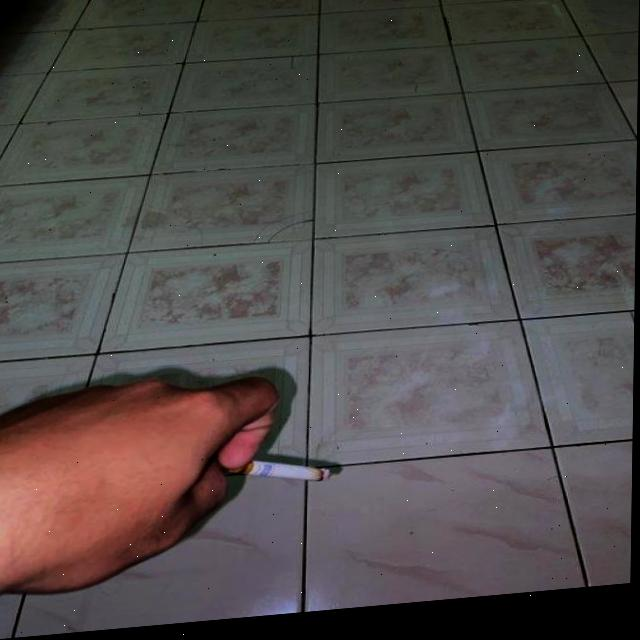cigarette: (229, 461, 334, 495)
